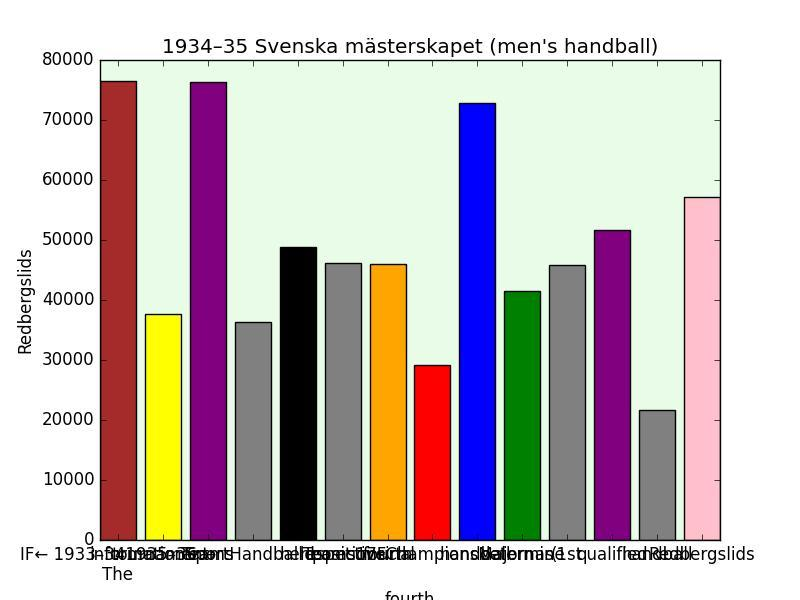axis: (18, 52, 94, 548)
rectangle: (100, 81, 136, 540), (190, 82, 226, 540), (460, 103, 496, 540), (684, 197, 720, 540), (594, 230, 630, 540), (280, 247, 316, 540), (324, 263, 360, 540), (370, 264, 406, 540), (549, 265, 585, 540), (504, 291, 540, 540), (145, 314, 181, 540), (235, 322, 271, 540), (415, 365, 450, 540), (639, 410, 675, 540)
